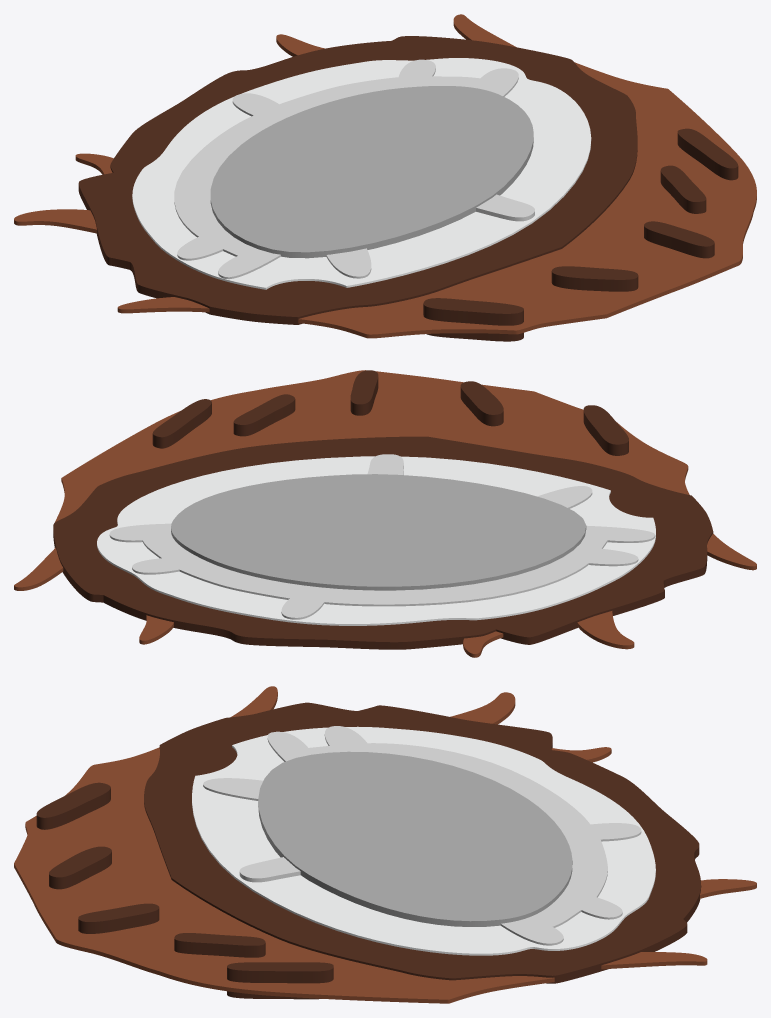
File: emoji_u1f965.glb
3 renders of one model, top to bottom at view 1: azimuth 30°, elevation 25°; view 2: azimuth 150°, elevation 25°; view 3: azimuth 270°, elevation 25°, orthographic. The views are drawn at different scales.
Visible parts, largest first — view 1: emoji_u1f965; view 2: emoji_u1f965; view 3: emoji_u1f965.
Boxes of the visible parts, x1,y1,x2,y2 form: emoji_u1f965: (14,14,756,341); emoji_u1f965: (14,370,756,657); emoji_u1f965: (14,686,756,1003).
Bounding box in the file's own units: 0.0338 × 0.0014 × 0.0338.
